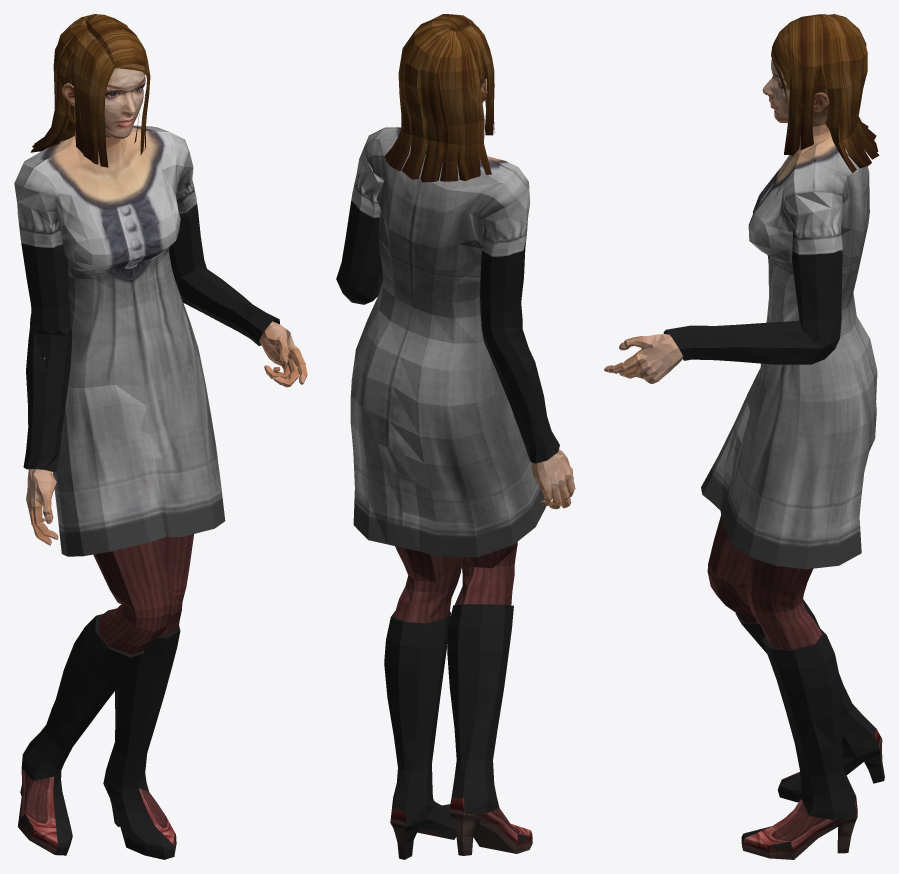
The model's file is sweethome3d-reallusion-holding-female-7.glb.
3 renders of one model, left to right at view 1: azimuth 30°, elevation 25°; view 2: azimuth 150°, elevation 25°; view 3: azimuth 270°, elevation 25°, orthographic. The views are drawn at different scales.
Parts seen in each view (by area): view 1: objpolySurface1023; view 2: objpolySurface1023; view 3: objpolySurface1023.
Boxes of the visible parts, <box> form: objpolySurface1023: <box>14,14,307,859</box>; objpolySurface1023: <box>336,14,575,859</box>; objpolySurface1023: <box>604,14,884,859</box>.
Size of the model in its own units: 43.47 by 166 by 51.69.
3 materials, 3 textured.
